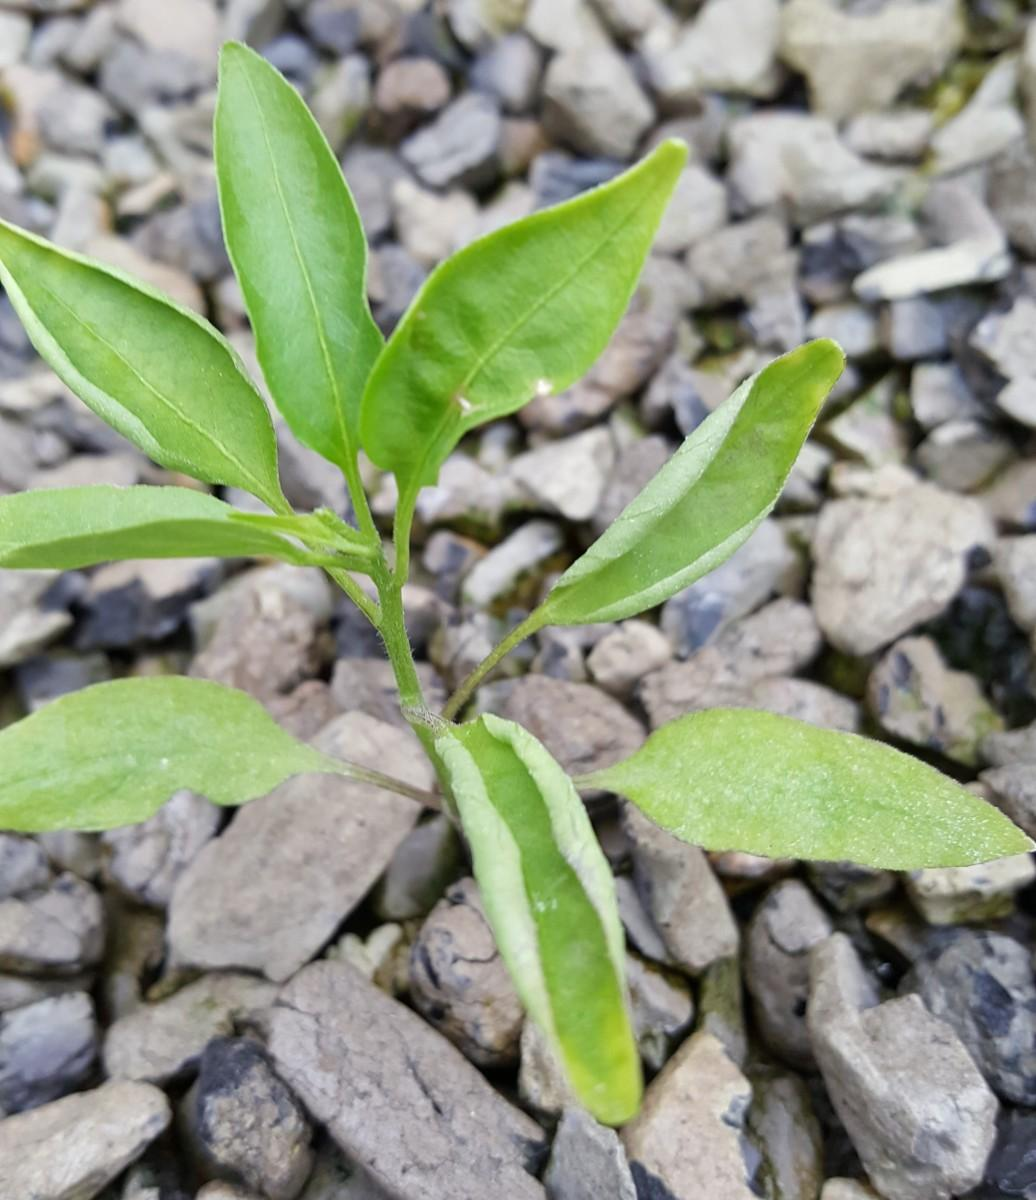Tomato leaf bacterial spot: (356, 119, 714, 487), (188, 42, 423, 514), (516, 328, 849, 640), (590, 698, 1036, 891), (1, 668, 333, 827)
